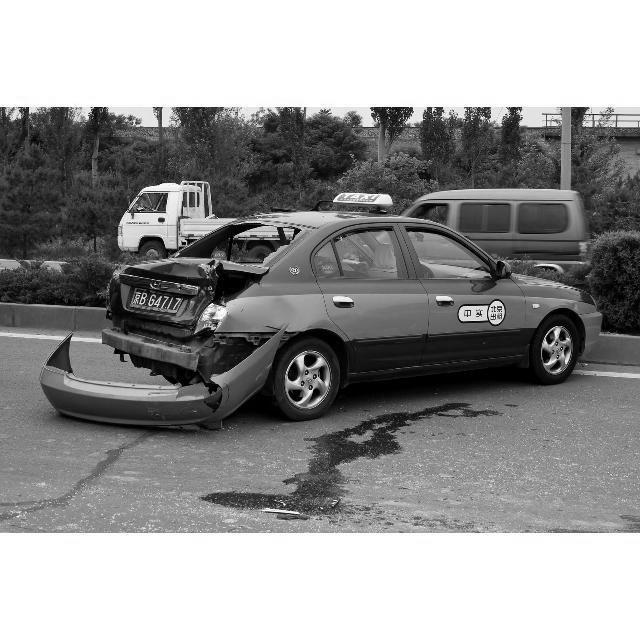boot-dent: (124, 253, 231, 327)
quaterpanel-dent: (250, 299, 337, 347)
rear-bumper-dent: (97, 323, 230, 379)
